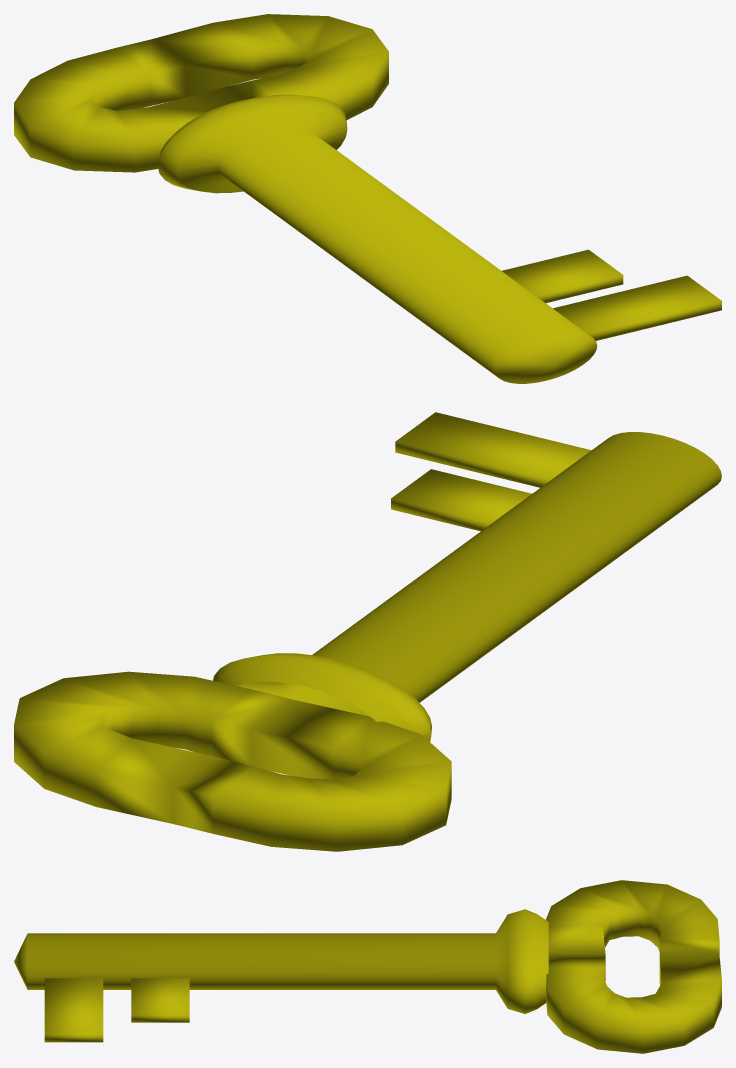
Rendered from Key.fbx.
The picture shows the model from 3 angles, top to bottom: view 1: azimuth 30°, elevation 25°; view 2: azimuth 150°, elevation 25°; view 3: azimuth 270°, elevation 25°; orthographic projection. The views are drawn at different scales.
Visible parts, largest first — view 1: Cylinder; view 2: Cylinder; view 3: Cylinder.
Boxes of the visible parts, left/top/right/bottom form: Cylinder: left=14, top=14, right=721, bottom=383; Cylinder: left=14, top=412, right=721, bottom=851; Cylinder: left=14, top=880, right=721, bottom=1053.
Bounding box in the file's own units: 5.92 × 1.33 × 12.09.
